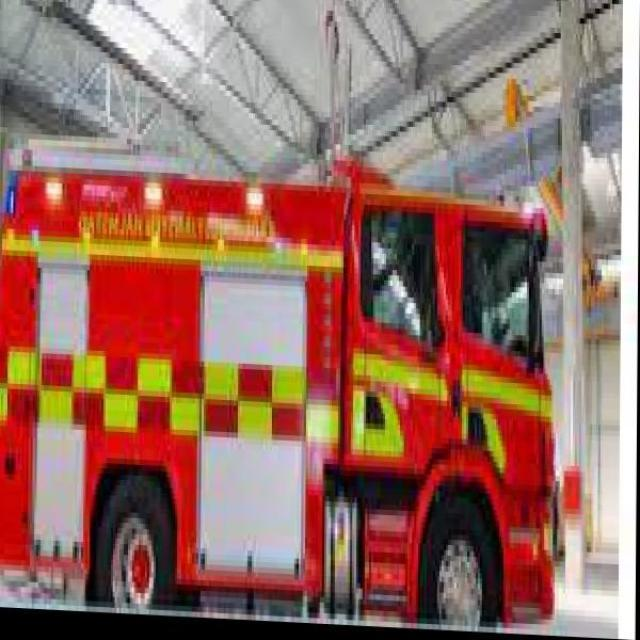emergency: (0, 137, 568, 631)
